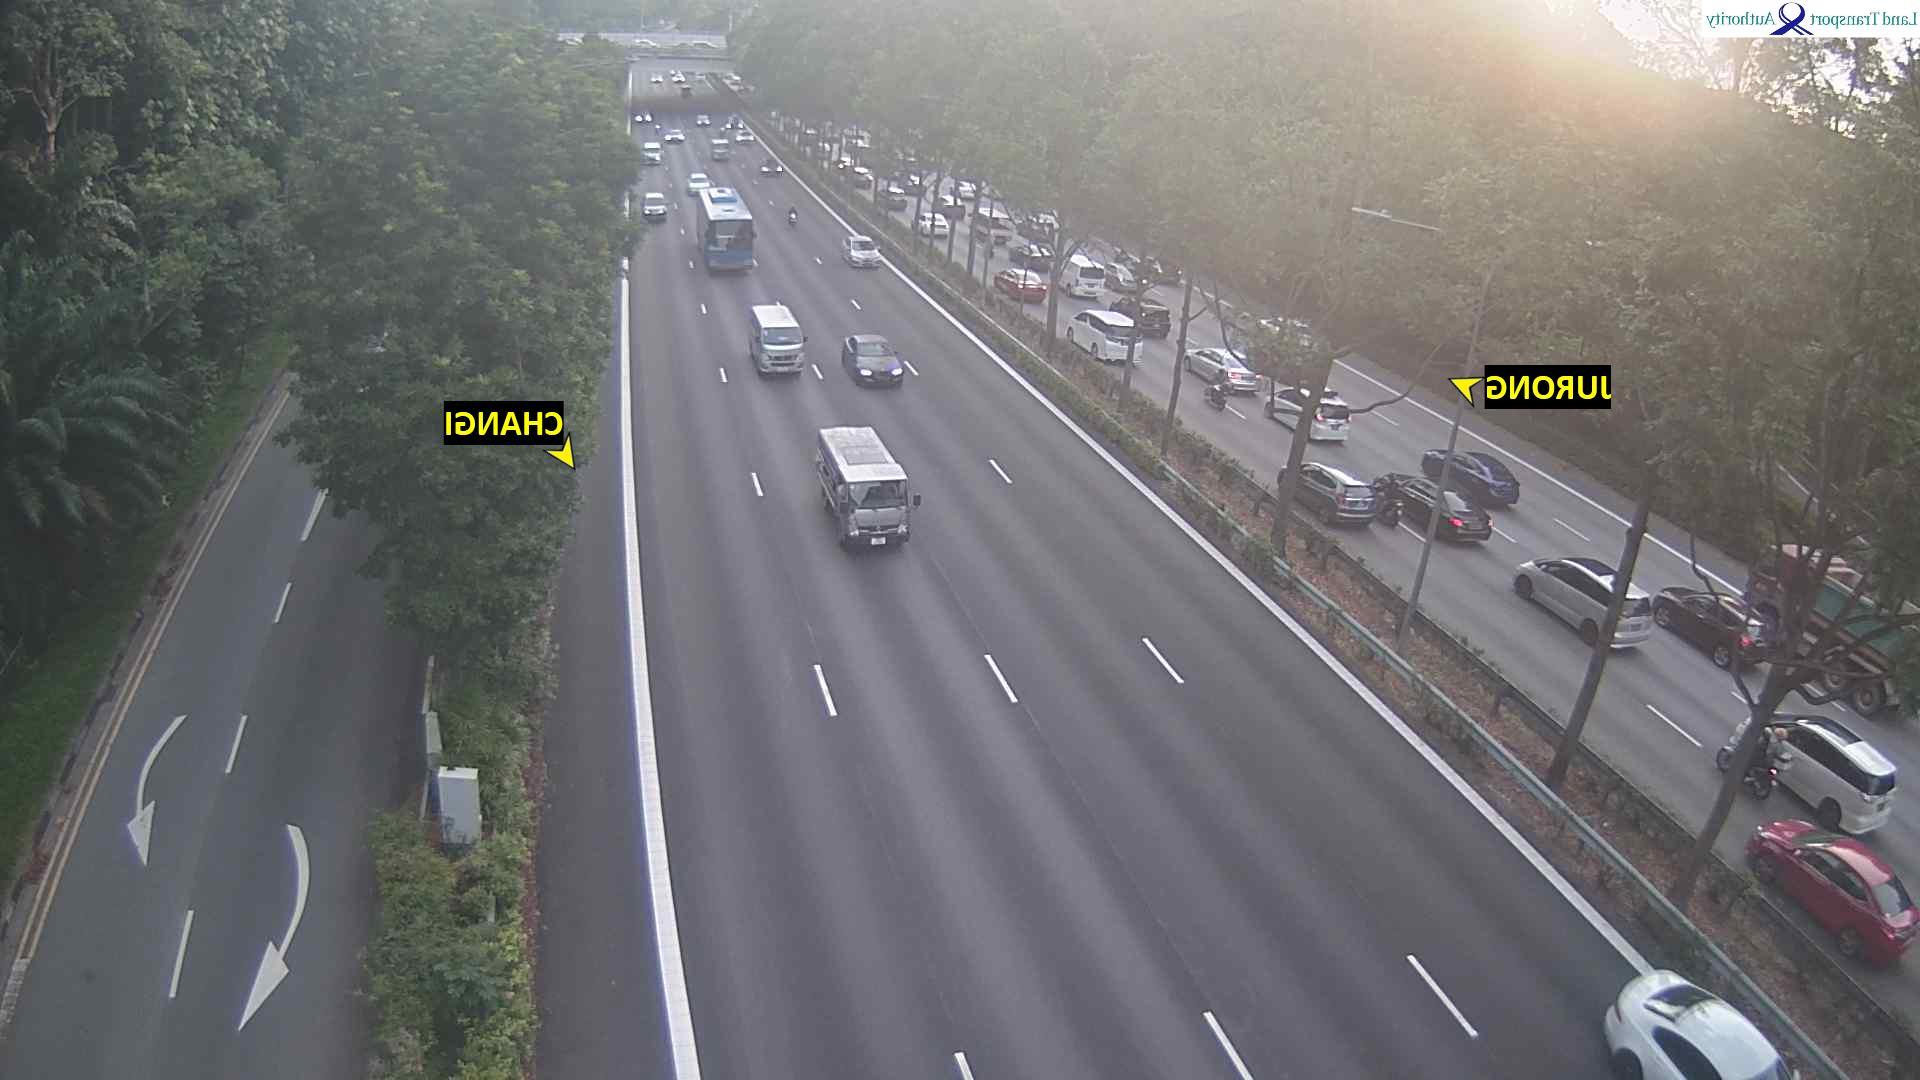incoming: (832, 472, 923, 554), (702, 216, 761, 277), (752, 323, 811, 381), (845, 339, 907, 389), (844, 237, 885, 270), (640, 196, 670, 219), (686, 175, 713, 196), (641, 145, 665, 166), (708, 141, 732, 161), (758, 158, 783, 177), (663, 129, 687, 145), (786, 208, 800, 229), (735, 131, 754, 145)
